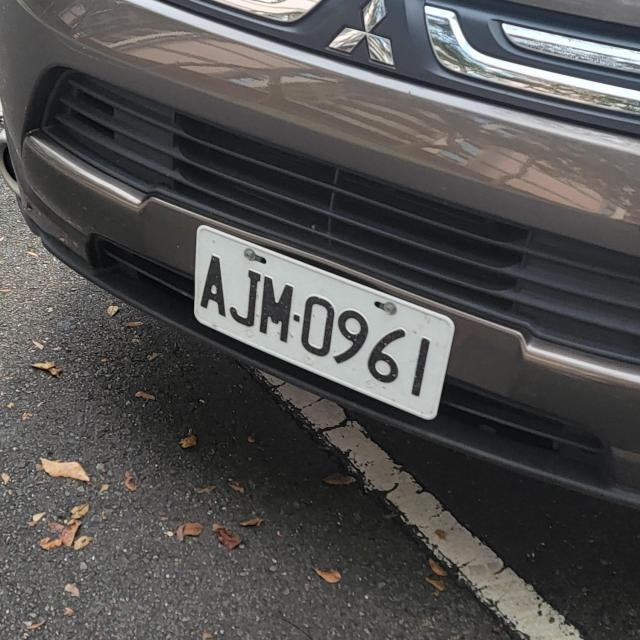W: (190, 222, 457, 422)
